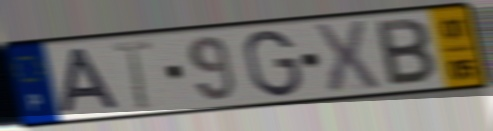9: (185, 34, 237, 104)
A: (58, 46, 123, 117)
B: (373, 16, 439, 89)
G: (241, 28, 305, 100)
T: (108, 37, 155, 113)
X: (310, 19, 383, 97)
